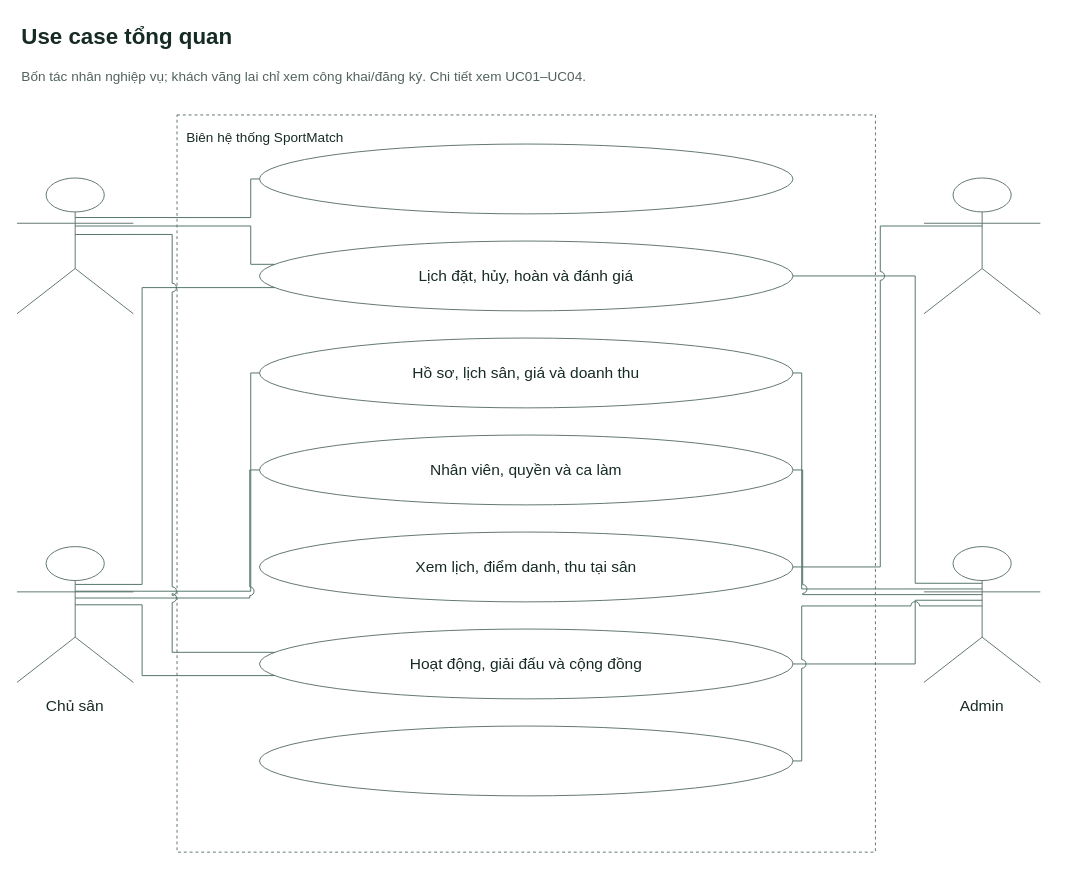
This 1069x869 diagram has some shape labels left out. The centre of each missing label's shape, as x and y in pixels:
Khách hàng: the point at 74,245
Kiểm duyệt bảy nhóm quản lý: the point at 526,760
Nhân viên: the point at 981,245
Tìm sân, đặt lịch, thanh toán mẫu: the point at 526,178
